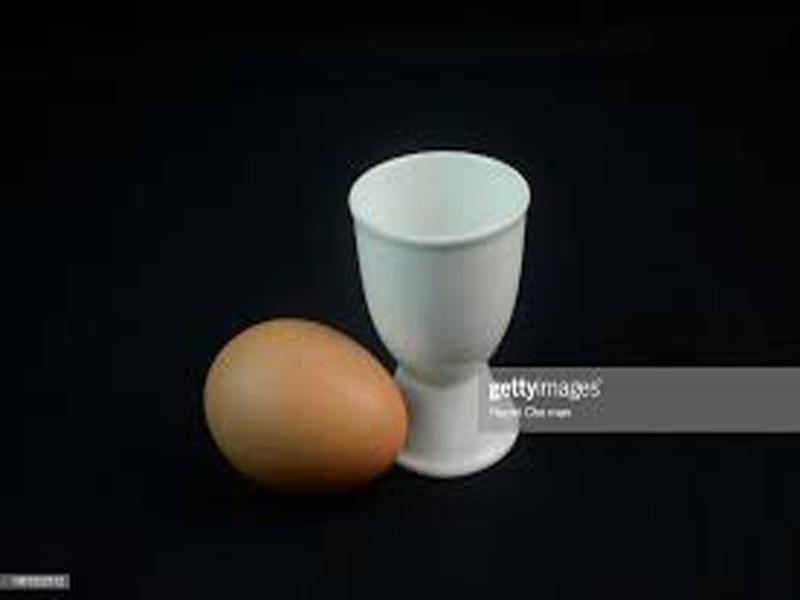Eggs: (206, 318, 409, 482)
